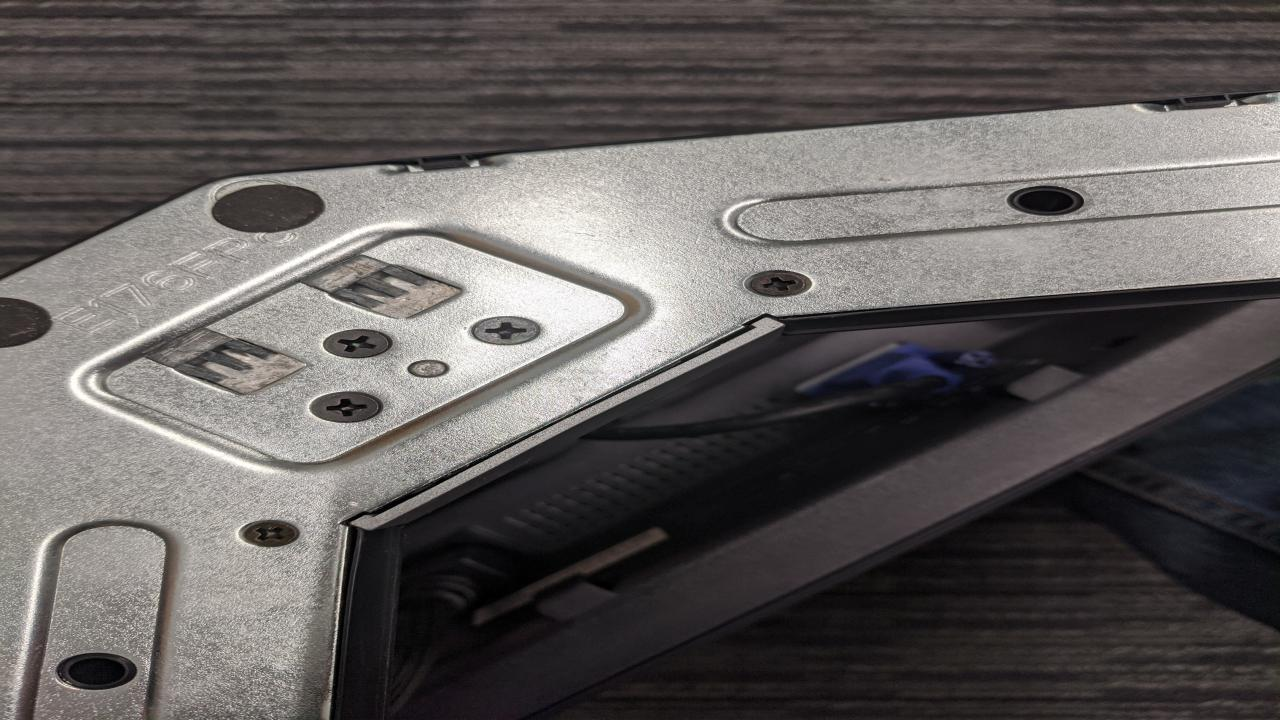CRS: (306, 390, 386, 420), (315, 330, 397, 358), (464, 317, 544, 345), (743, 269, 814, 298), (235, 520, 304, 546)
